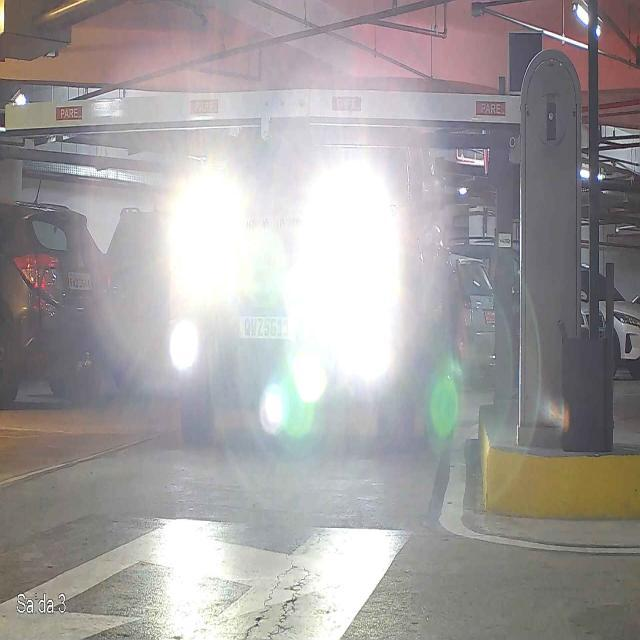old_plate: (234, 310, 295, 340)
